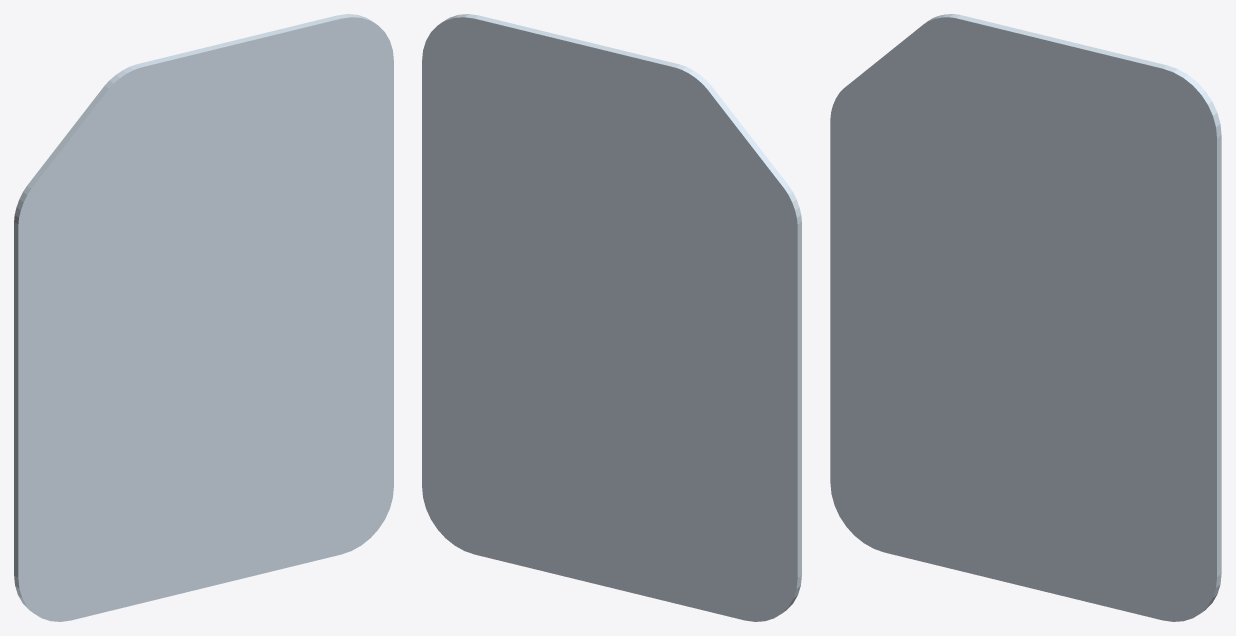
The model's file is File_3D_Icon_02.fbx.
3 renders of one model, left to right at view 1: azimuth 30°, elevation 25°; view 2: azimuth 150°, elevation 25°; view 3: azimuth 330°, elevation 25°, orthographic. The views are drawn at different scales.
Visible parts, largest first — view 1: File_3D_Icon_02; view 2: File_3D_Icon_02; view 3: File_3D_Icon_02.
Part boxes in pixels (x1=…): File_3D_Icon_02: x1=14, y1=14, x2=393, y2=621; File_3D_Icon_02: x1=422, y1=14, x2=801, y2=621; File_3D_Icon_02: x1=830, y1=14, x2=1221, y2=621.
Size of the model in its own units: 99 by 135 by 2.
